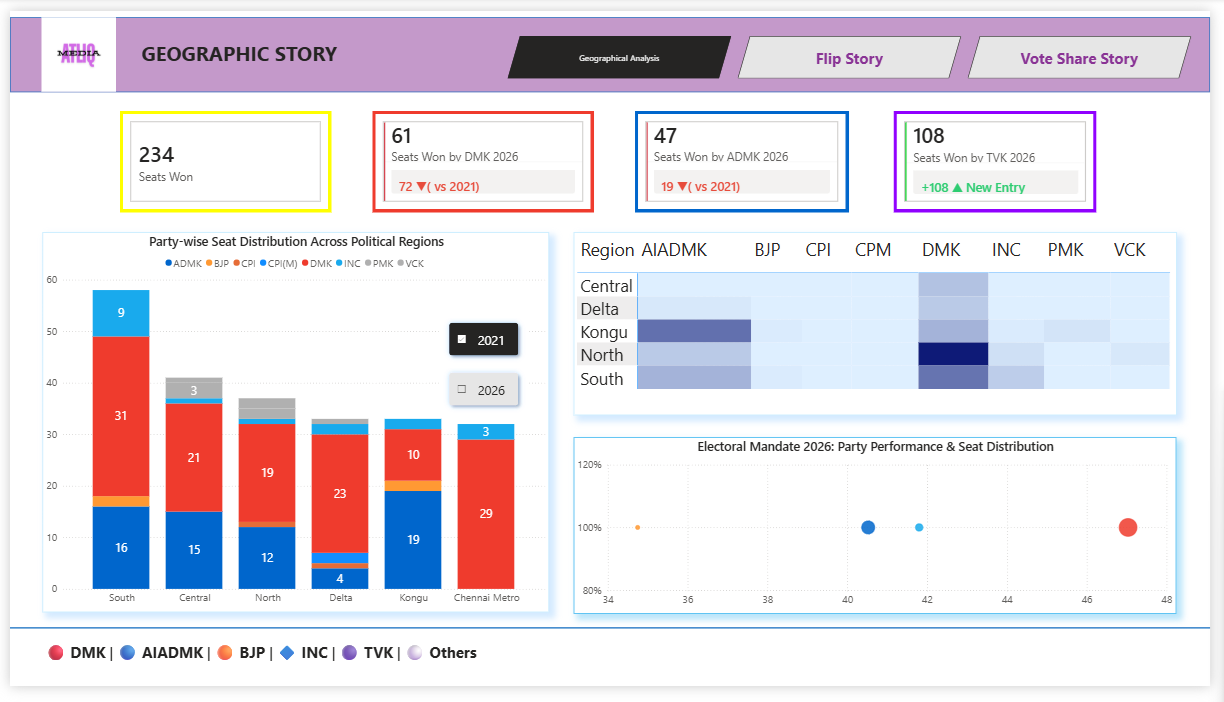

Layout of this report page (visuals, bound fields, positions):
{"tool":"powerbi","page":{"name":"Geographical Analysis","canvas":[1920,1080],"ordinal":0},"visuals":[{"type":"cardVisual","fields":{"Data":["Measures (2).Seats Won"]},"box":[176,160,338,162],"z":0},{"type":"cardVisual","fields":{"Data":["Measures (2).Seats Won by DMK 2026"]},"box":[580,160,354,162],"z":1000},{"type":"cardVisual","fields":{"Data":["Measures (2).Seats Won by ADMK 2026"]},"box":[1000,160,342,162],"z":2000},{"type":"cardVisual","fields":{"Data":["Measures (2).Seats Won by TVK 2026"]},"box":[1414,160,324,162],"z":3000},{"type":"shape","box":[0,10,1920,120],"z":4000},{"type":"textbox","box":[176,40,382,78],"z":5000},{"type":"columnChart","title":"Party-wise Seat Distribution Across Political Regions","fields":{"Y":["Measures (2).Seats_Won_Master"],"Series":["fact_election_result.party"],"Category":["dim_constituency.region"]},"box":[52.5,354.7,810.7,608],"z":6000},{"type":"advancedSlicerVisual","fields":{"Values":["dim_election.election_year"]},"box":[686,482,144,166],"z":7000},{"type":"pivotTable","fields":{"Rows":["dim_constituency.political_region"],"Columns":["dim_party_master.standardized_party_code"],"Values":["Measures (2).Seats_Won_Master"]},"box":[901.2,354.7,964.5,293.2],"z":8000},{"type":"textbox","box":[52,1004,1764,56],"z":9000},{"type":"shape","box":[0,972,1920,30],"z":10000},{"type":"pageNavigator","box":[796.3,39.8,1094.8,68.8],"z":11000},{"type":"scatterChart","title":"Electoral Mandate 2026: Party Performance & Seat Distribution","fields":{"Category":["dim_party_master.standardized_party_code"],"Size":["Measures (2).Seats_Won_Master"],"X":["Measures (2).Vote Share %"],"Y":["Measures (2).% of Total"]},"box":[902,682,964,282],"z":12000},{"type":"image","box":[43.4,10.9,132.1,119.4],"z":12001}]}

Visuals, with their boxes in screenshot pixels (x1, y1, x2, y2), scaled from the page's 1920x1080 canvas onto the 1224x702 screenshot:
cardVisual - Measures (2).Seats Won: {"left": 112, "top": 104, "right": 328, "bottom": 209}
cardVisual - Measures (2).Seats Won by DMK 2026: {"left": 370, "top": 104, "right": 595, "bottom": 209}
cardVisual - Measures (2).Seats Won by ADMK 2026: {"left": 638, "top": 104, "right": 856, "bottom": 209}
cardVisual - Measures (2).Seats Won by TVK 2026: {"left": 901, "top": 104, "right": 1108, "bottom": 209}
shape: {"left": 0, "top": 6, "right": 1223, "bottom": 84}
textbox: {"left": 112, "top": 26, "right": 356, "bottom": 77}
"Party-wise Seat Distribution Across Political Regions" columnChart: {"left": 33, "top": 231, "right": 550, "bottom": 626}
advancedSlicerVisual - dim_election.election_year: {"left": 437, "top": 313, "right": 529, "bottom": 421}
pivotTable - dim_constituency.political_region x dim_party_master.standardized_party_code: {"left": 575, "top": 231, "right": 1189, "bottom": 421}
textbox: {"left": 33, "top": 653, "right": 1158, "bottom": 689}
shape: {"left": 0, "top": 632, "right": 1223, "bottom": 651}
pageNavigator: {"left": 508, "top": 26, "right": 1206, "bottom": 71}
"Electoral Mandate 2026: Party Performance & Seat Distribution" scatterChart: {"left": 575, "top": 443, "right": 1190, "bottom": 627}
image: {"left": 28, "top": 7, "right": 112, "bottom": 85}
